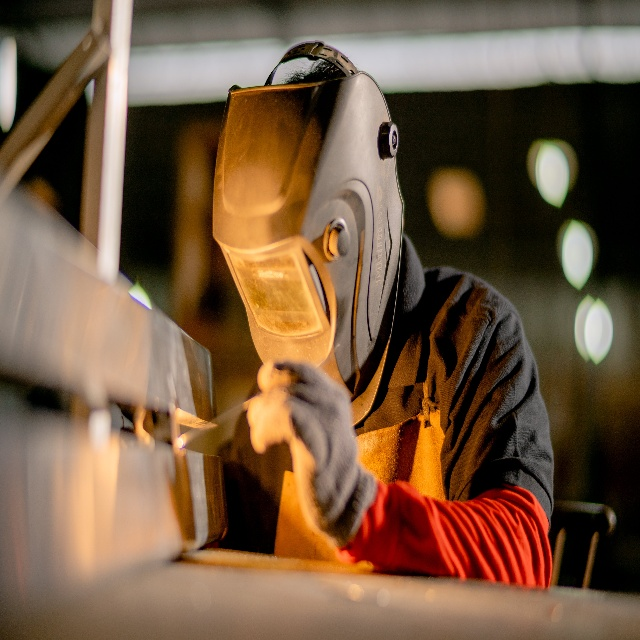Guantes: (246, 357, 376, 548)
